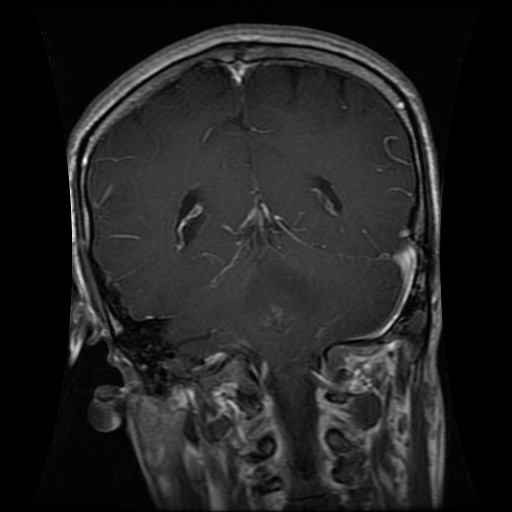glioma: (242, 257, 316, 333)
